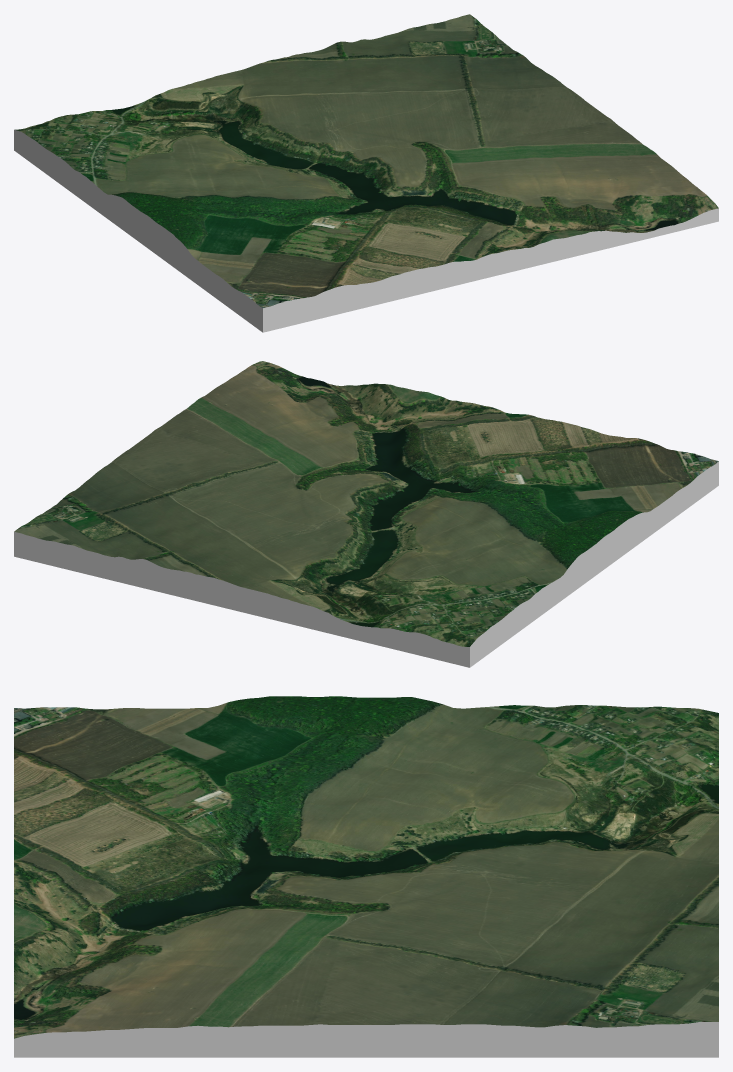
The picture shows the model from 3 angles, top to bottom: view 1: azimuth 30°, elevation 25°; view 2: azimuth 150°, elevation 25°; view 3: azimuth 270°, elevation 25°; orthographic projection. The views are drawn at different scales.
Parts seen in each view (by area): view 1: Terrain; view 2: Terrain; view 3: Terrain.
Part boxes in pixels (x1,y1,x2,y2): Terrain: [14, 14, 718, 332]; Terrain: [14, 361, 718, 667]; Terrain: [14, 696, 718, 1057].
Size of the model in its own units: 280146 by 19503 by 264984.
